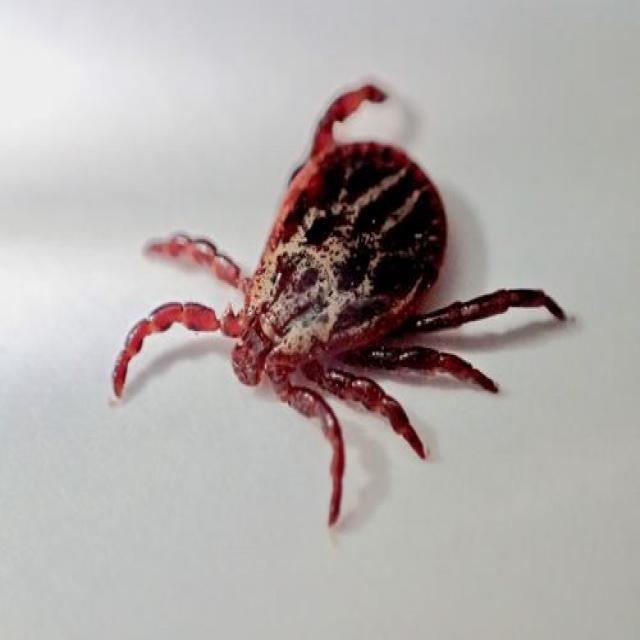Dermacentor Reticulatus-M: (110, 84, 563, 529)
